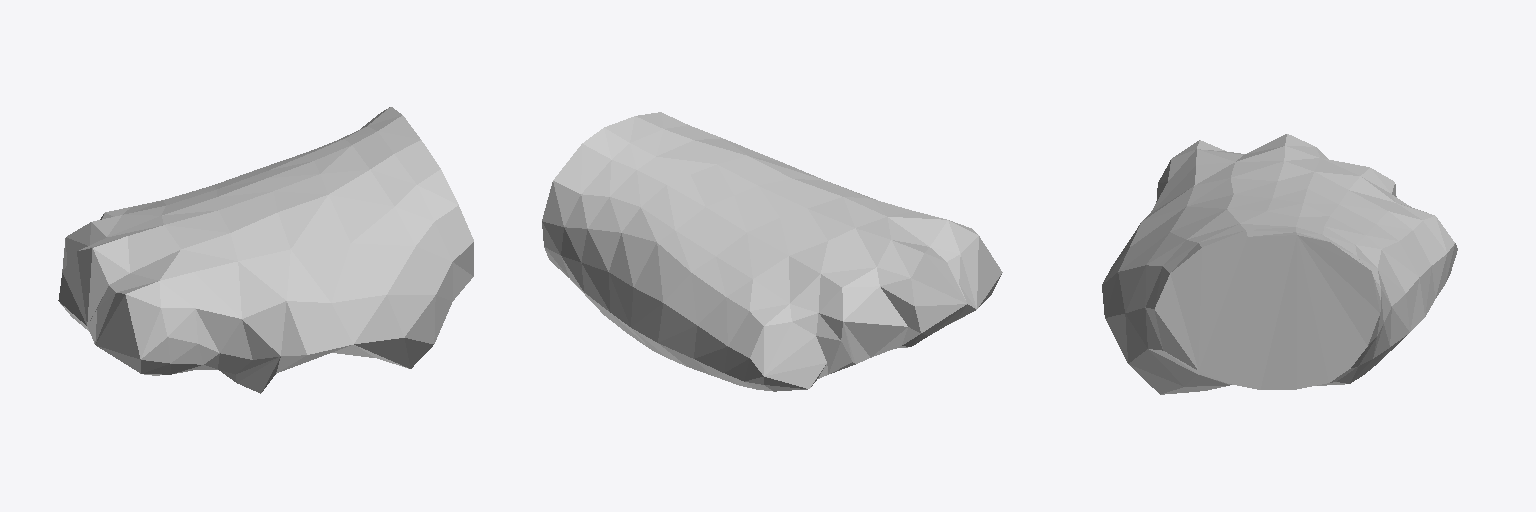
The model's file is palm.obj.
3 views of the same model, side by side, from view 1: azimuth 30°, elevation 25°; view 2: azimuth 150°, elevation 25°; view 3: azimuth 270°, elevation 25° (orthographic).
Bounding box in the file's own units: 115 × 57.35 × 95.72.